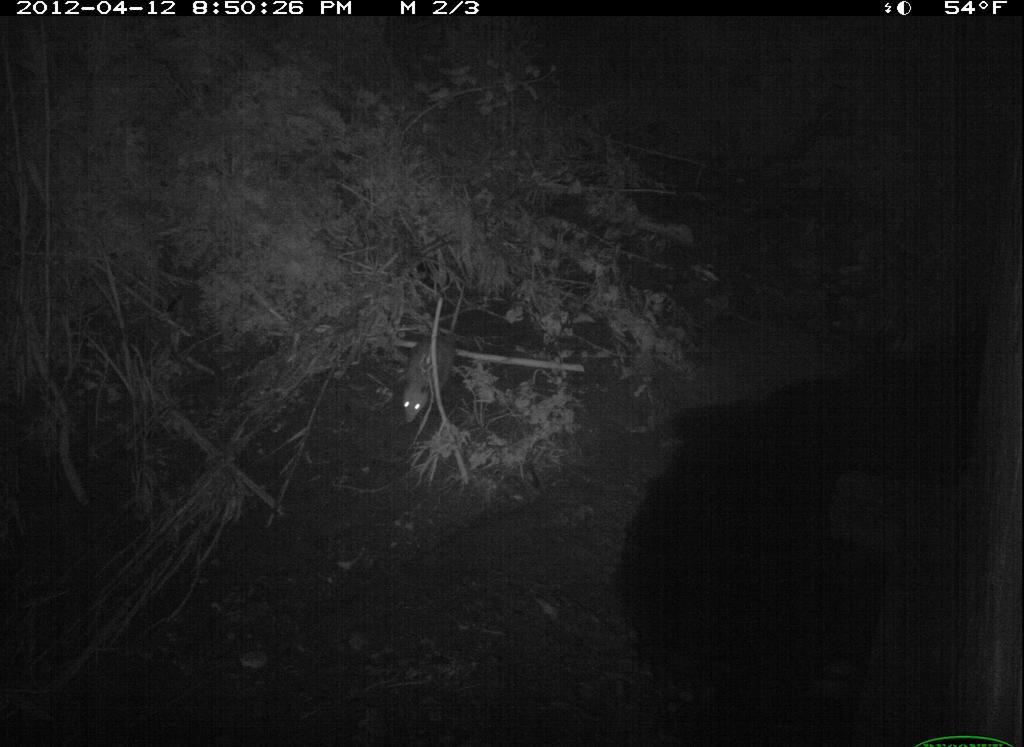opossum: (387, 297, 478, 436)
